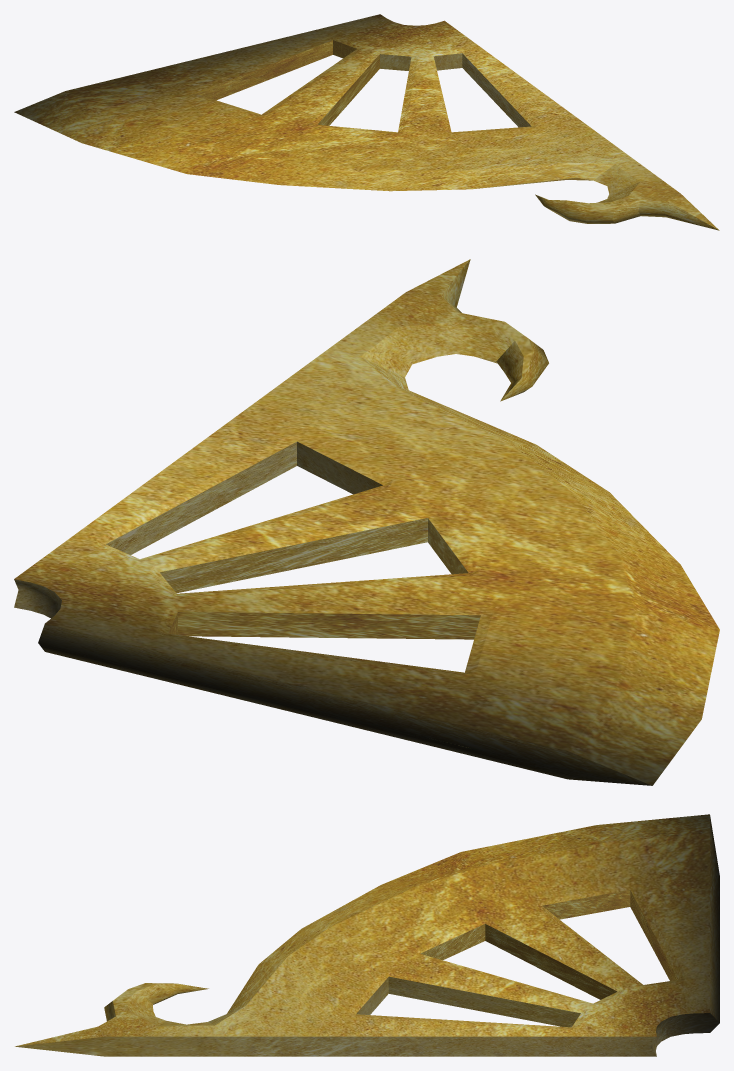
File: NewTopAsset5.FBX
3 views of the same model, one above another, from view 1: azimuth 30°, elevation 25°; view 2: azimuth 150°, elevation 25°; view 3: azimuth 270°, elevation 25° (orthographic). The views are drawn at different scales.
Parts seen in each view (by area): view 1: Box053; view 2: Box053; view 3: Box053.
Part boxes in pixels (x1,y1,x2,y2): Box053: (14, 14, 719, 230); Box053: (14, 259, 719, 785); Box053: (15, 814, 719, 1056).
Bounding box in the file's own units: 55.77 × 2.24 × 71.59.
